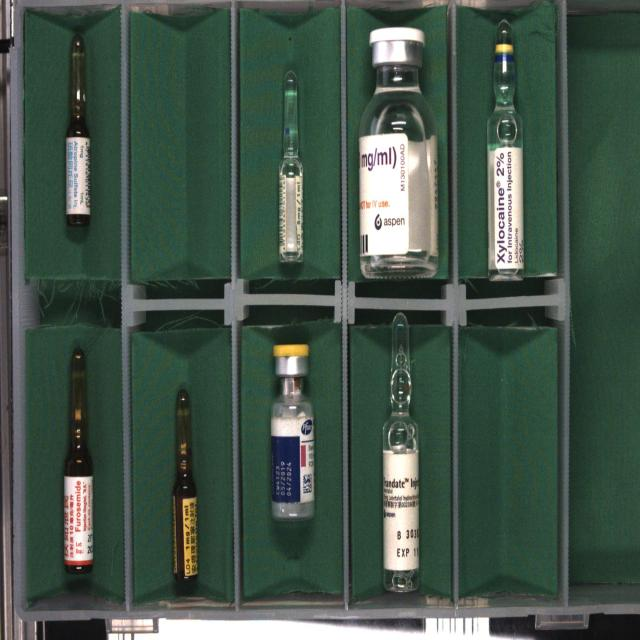Vials: (359, 27, 439, 279), (271, 344, 314, 521)
